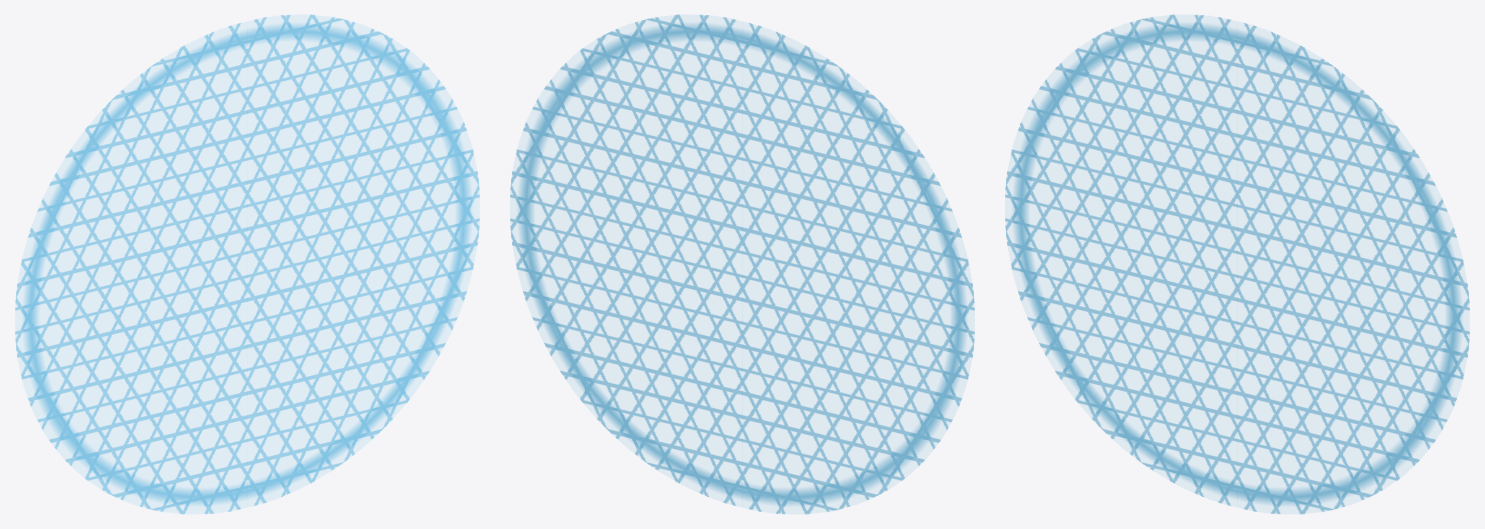
File: fx-shield.glb
3 renders of one model, left to right at view 1: azimuth 30°, elevation 25°; view 2: azimuth 150°, elevation 25°; view 3: azimuth 330°, elevation 25°, orthographic.
Visible parts, largest first — view 1: Shield_disc; view 2: Shield_disc; view 3: Shield_disc.
Boxes of the visible parts, x1,y1,x2,y2 form: Shield_disc: [15, 14, 479, 514]; Shield_disc: [510, 14, 974, 514]; Shield_disc: [1005, 14, 1469, 514].
Size of the model in its own units: 0.9 by 0.9 by 3.93e-08.
1 material, 1 textured.
